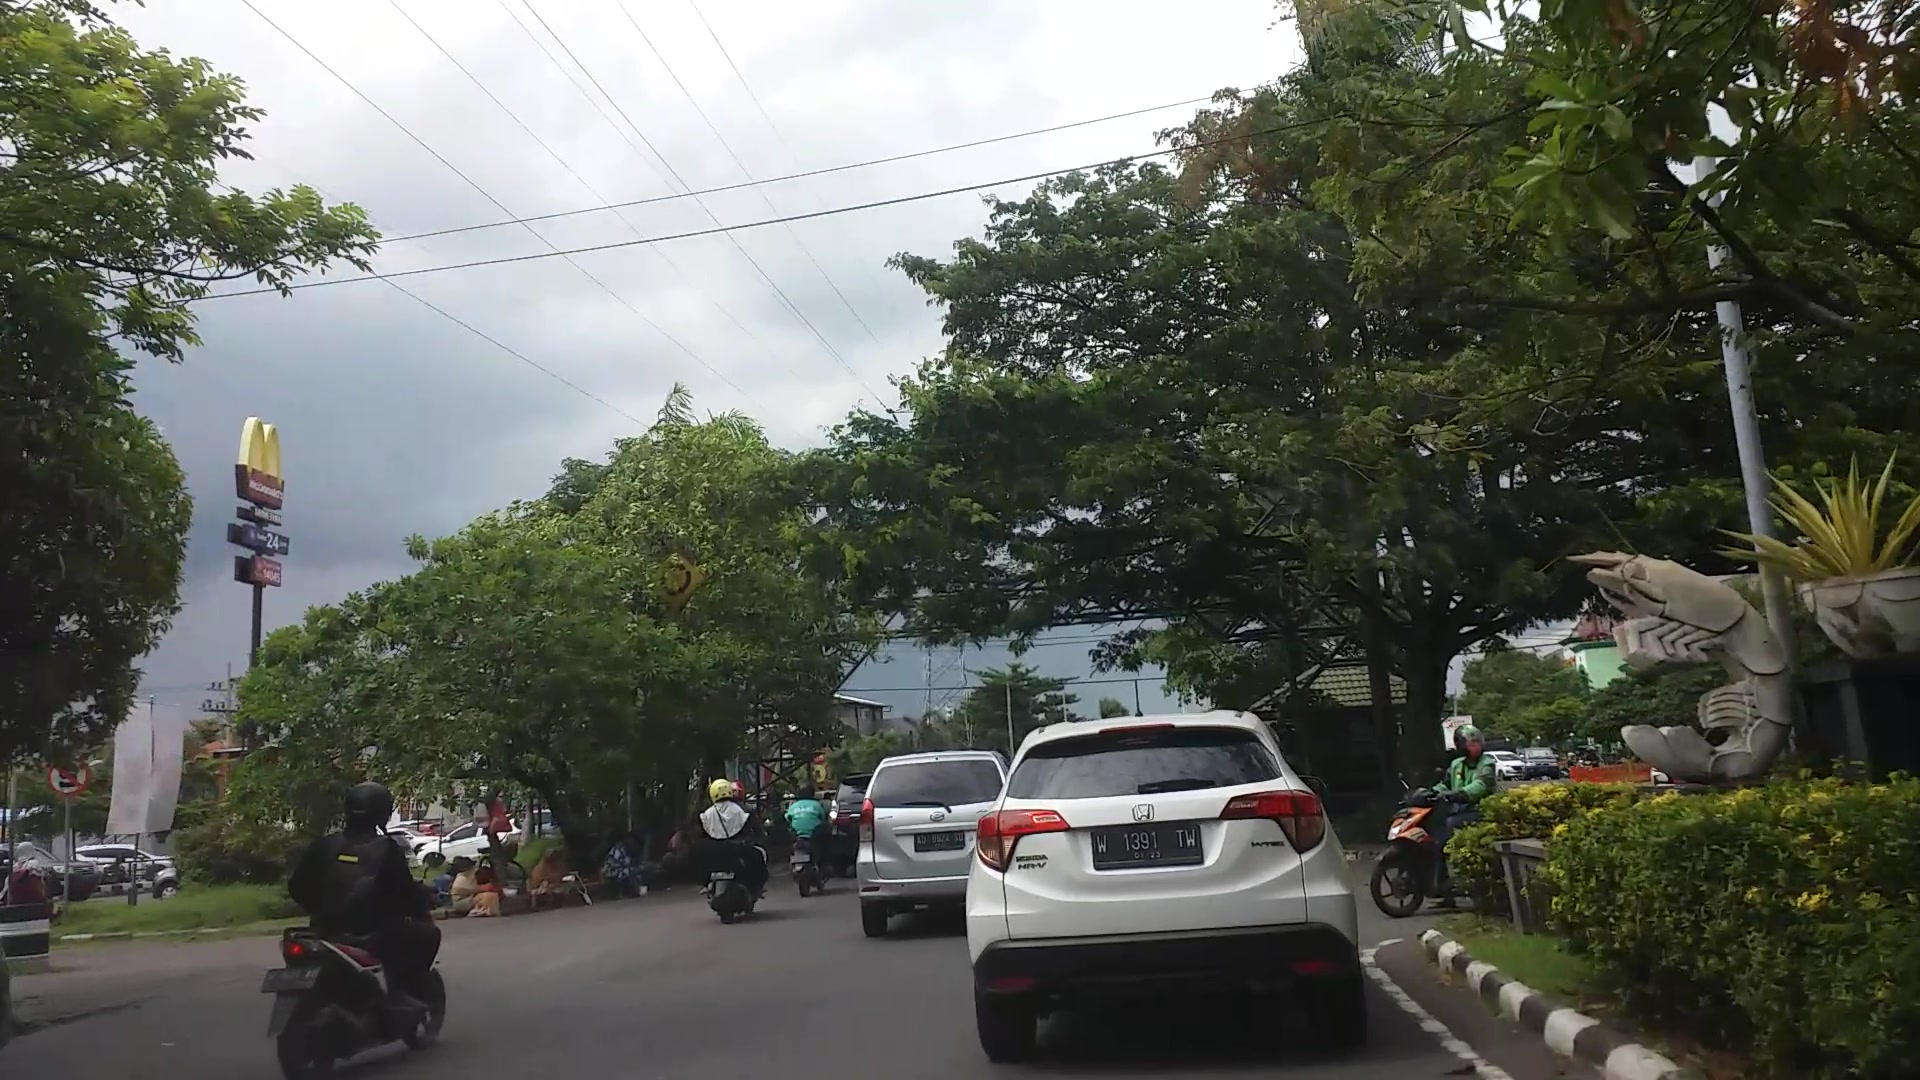plate_positive: (1091, 824, 1203, 870)
